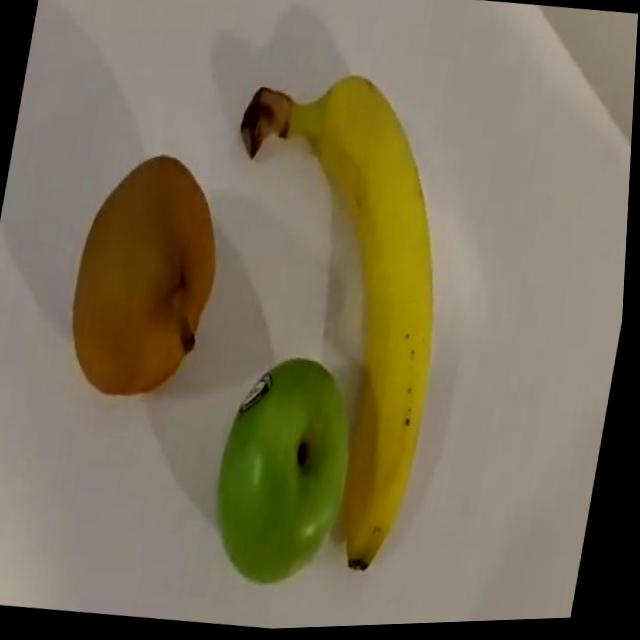Apple: (60, 146, 236, 408), (205, 350, 371, 598)
Banana: (169, 62, 481, 586)
